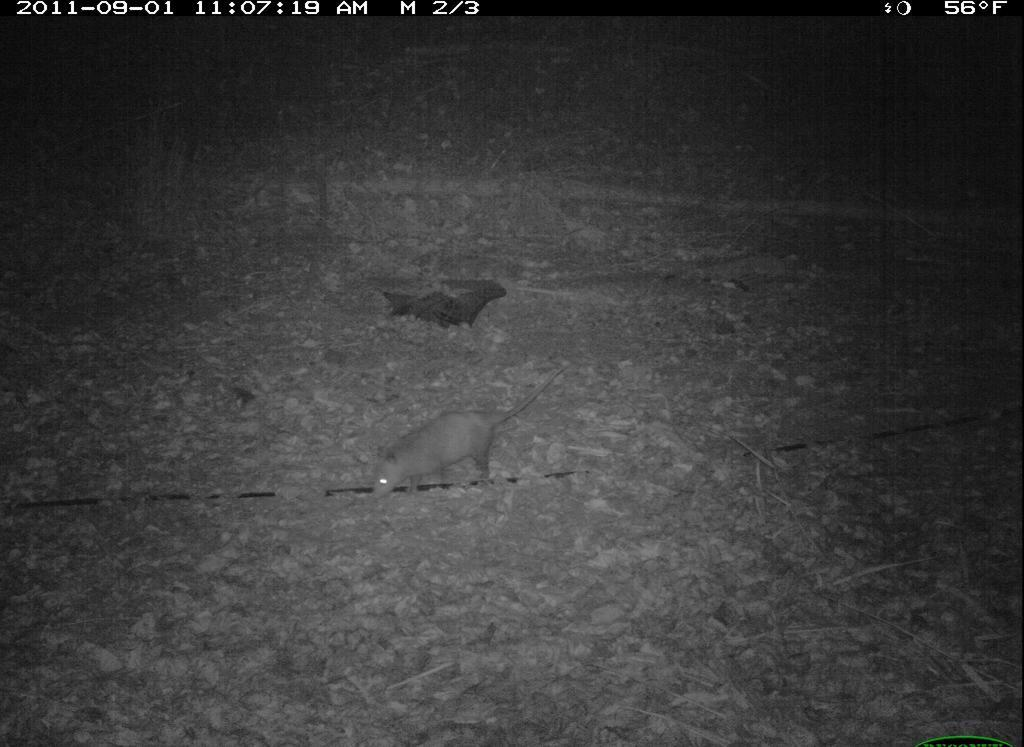opossum: (331, 367, 571, 529)
